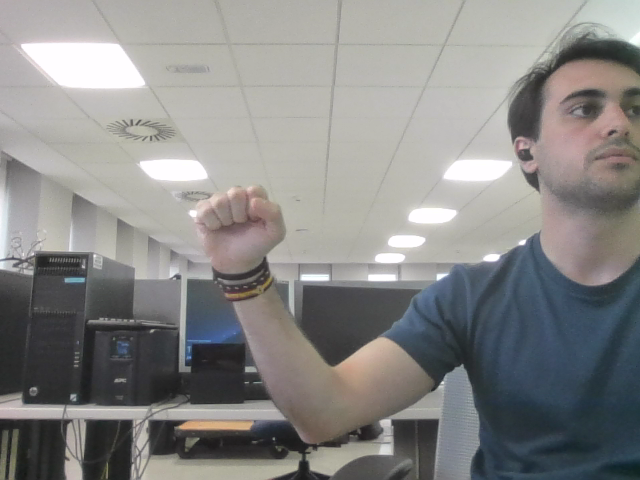Puño: (208, 192, 271, 253)
